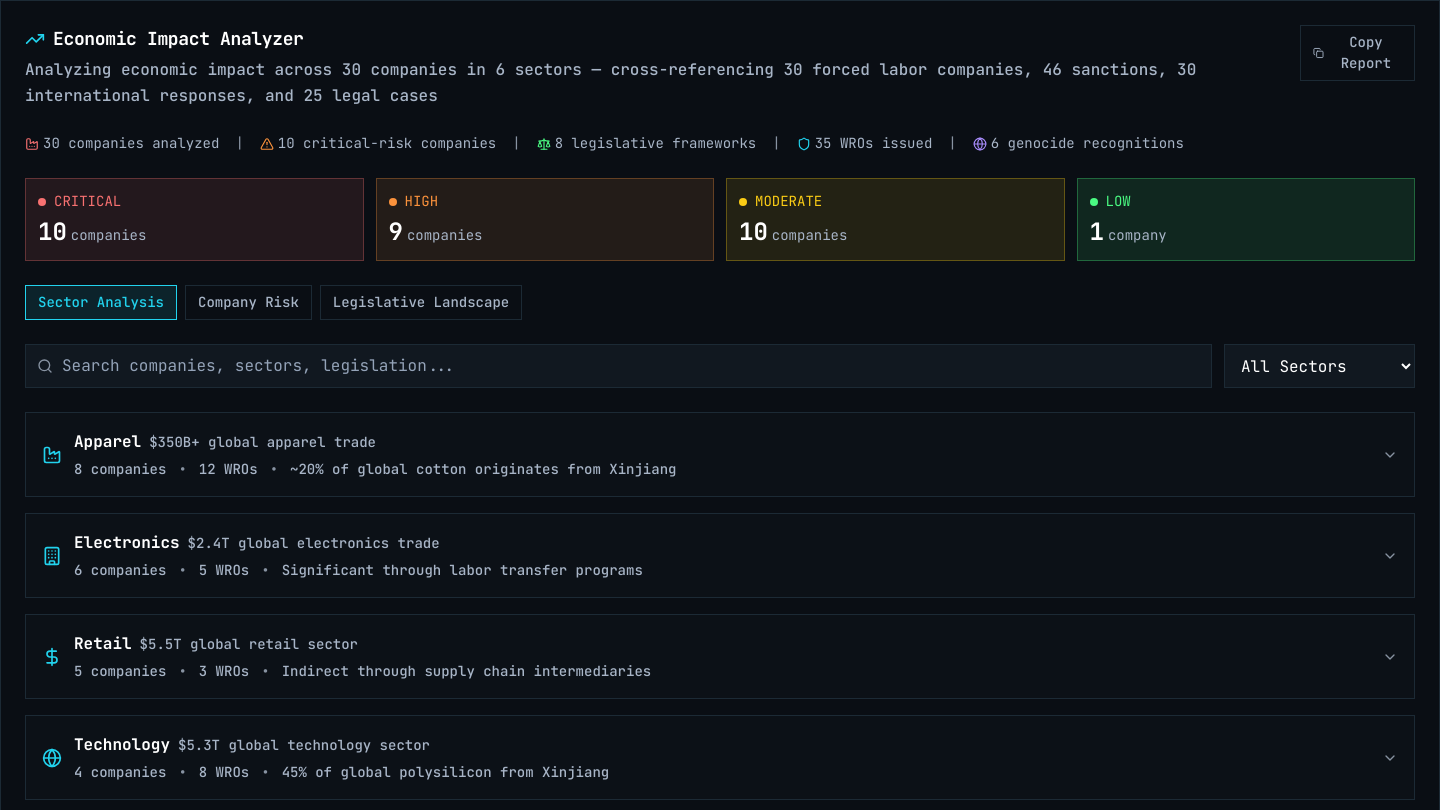
Test case: EconomicImpactAnalyzer › search filters sector results
In the field with placeholder "Search companies, sectors, legislation...": (618, 366) [25,344,1212,388], type "xyznonexistent123"
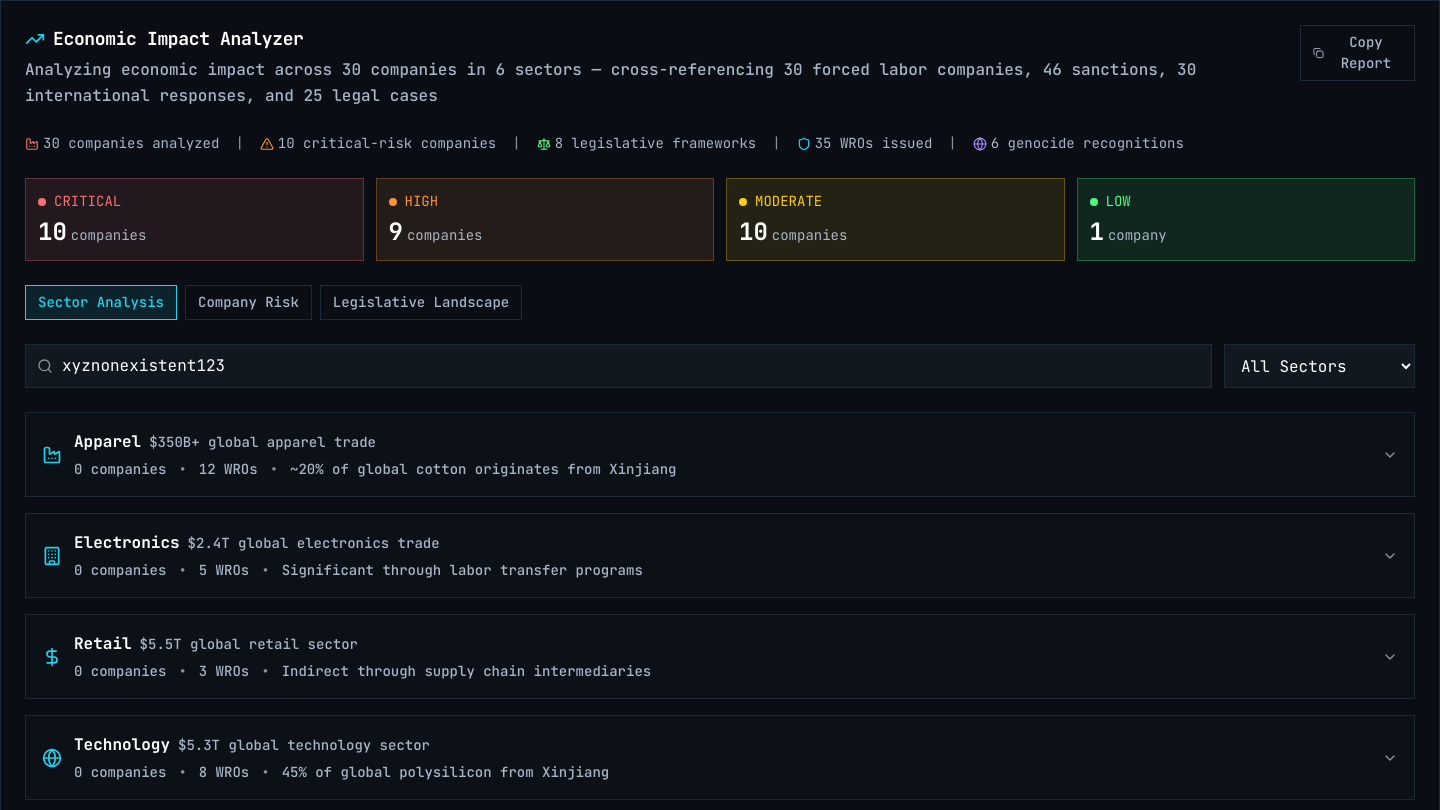
// Companies view should show no results when search doesn't match
Click the button "Company Risk": (248, 303) [185,285,312,320]
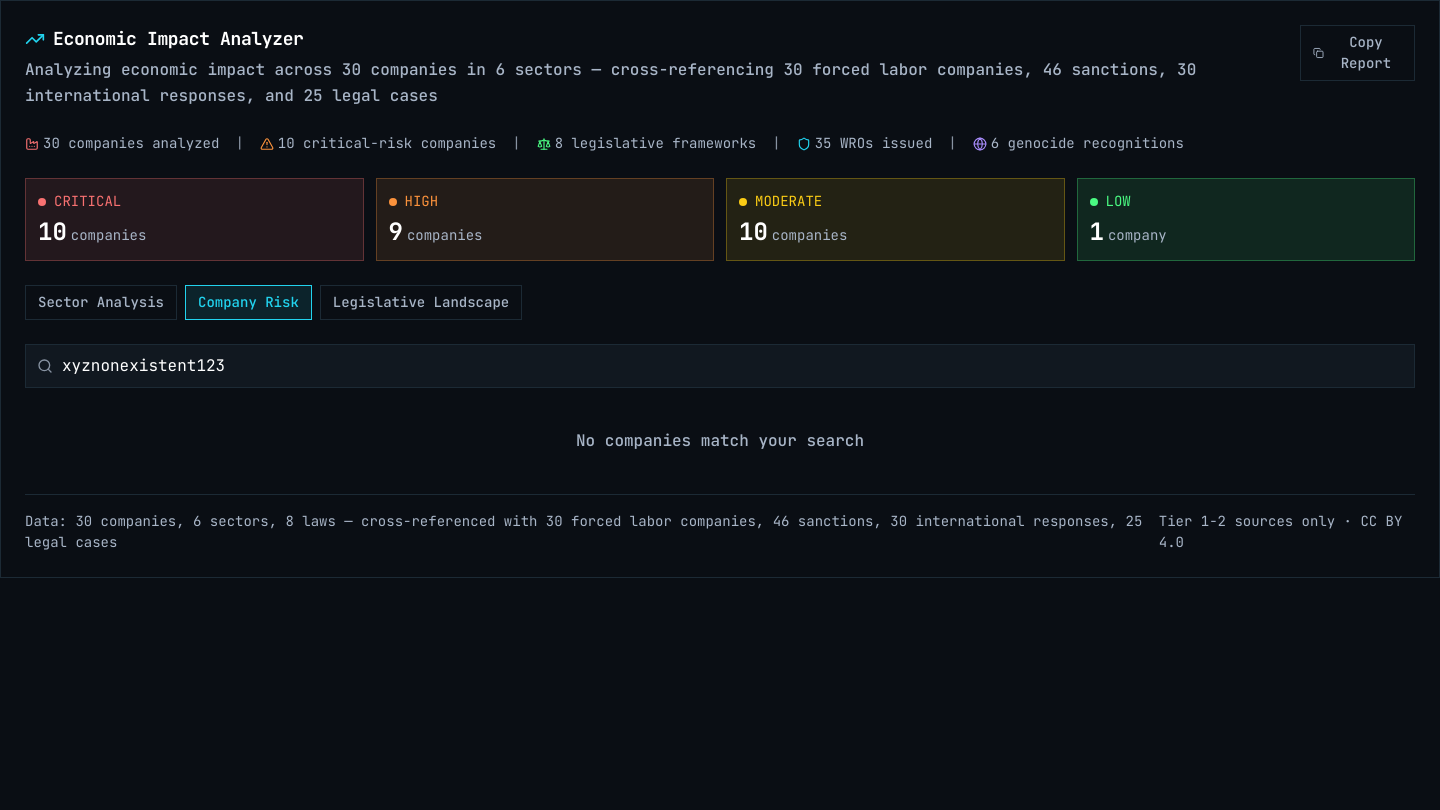
Expected: the text "No companies match your search" is shown, [576,430,864,451]
